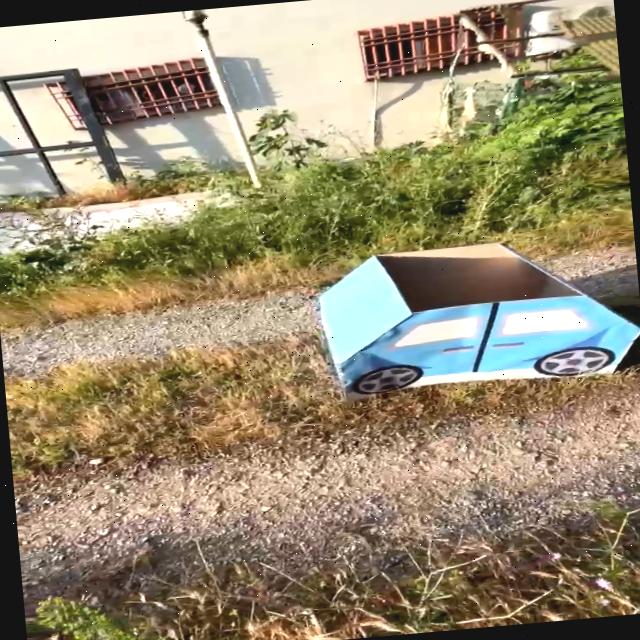blue_car: (262, 202, 640, 419)
